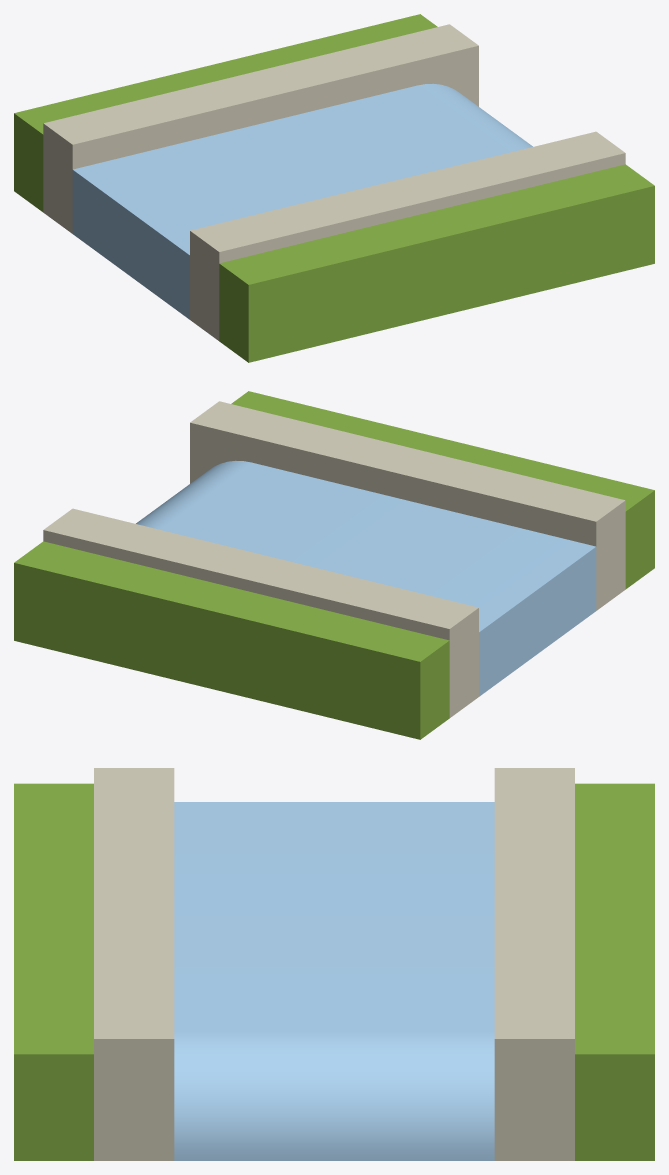
File: roadTile_253.fbx
3 views of the same model, one above another, from view 1: azimuth 30°, elevation 25°; view 2: azimuth 150°, elevation 25°; view 3: azimuth 270°, elevation 25° (orthographic). The views are drawn at different scales.
Visible parts, largest first — view 1: roadTile_253; view 2: roadTile_253; view 3: roadTile_253.
Part boxes in pixels (<box>): roadTile_253: <box>14,14,654,362</box>; roadTile_253: <box>14,391,654,739</box>; roadTile_253: <box>14,768,654,1160</box>.
Size of the model in its own units: 118 by 24.8 by 118.
